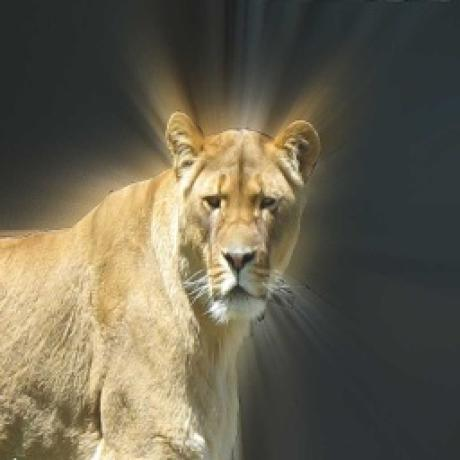Lion: (0, 108, 326, 460)
